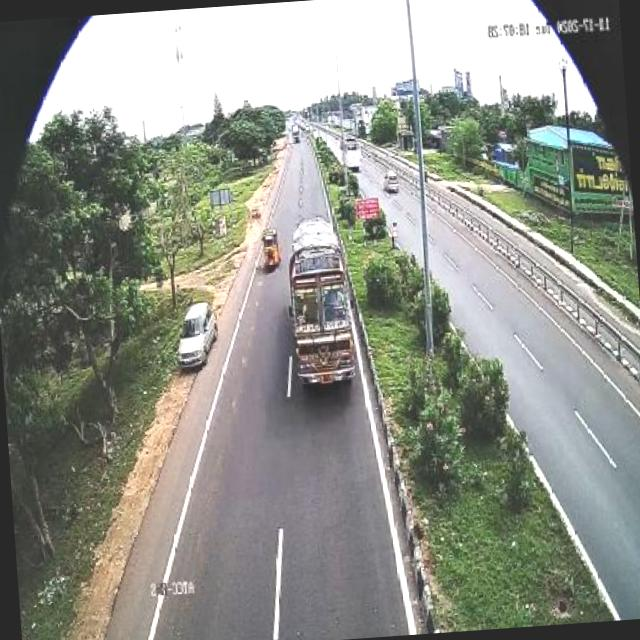car: (172, 295, 222, 364)
